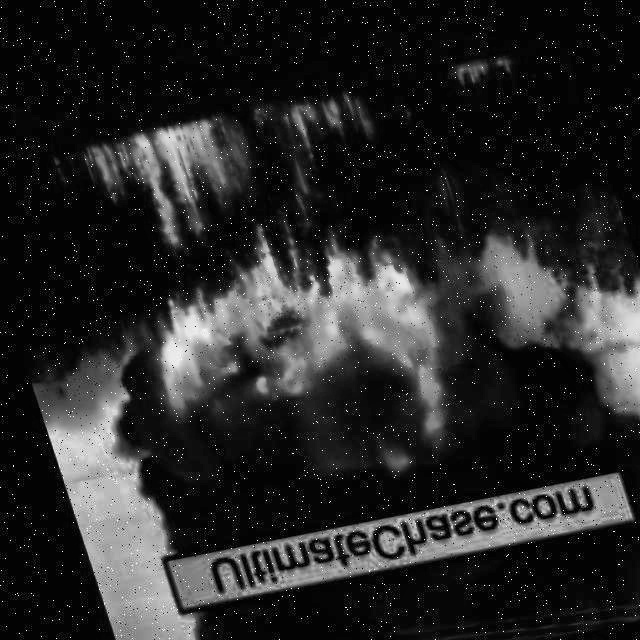Fire: (77, 67, 455, 449), (442, 39, 525, 88)
Smoke: (100, 256, 640, 578), (152, 469, 640, 640)
